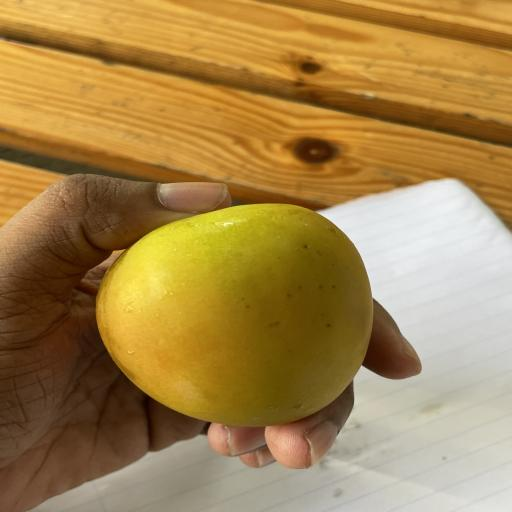unripe: (96, 204, 372, 426)
